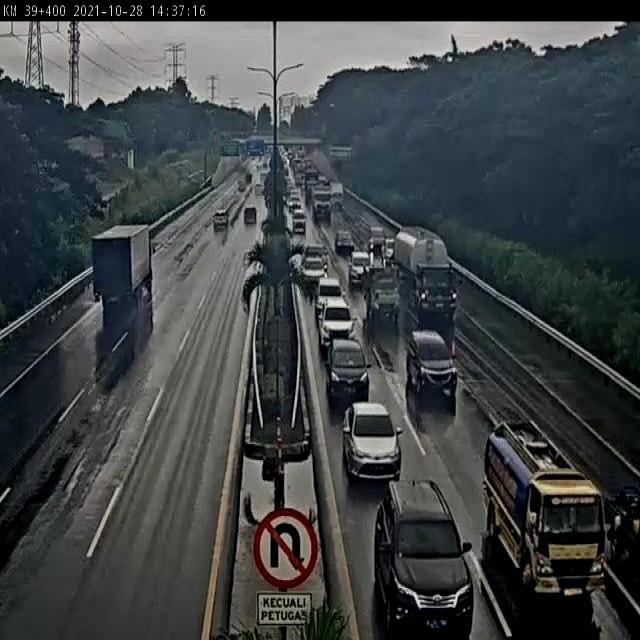Car: (372, 478, 477, 640), (340, 402, 404, 482), (405, 329, 459, 401), (323, 338, 372, 408), (316, 296, 358, 350), (348, 250, 374, 286), (300, 257, 328, 285), (314, 274, 344, 300), (367, 225, 385, 253), (336, 228, 355, 252), (212, 208, 230, 230), (291, 209, 308, 232), (383, 236, 397, 261), (243, 207, 258, 223), (288, 196, 301, 212)
Truck: (484, 416, 623, 602), (395, 222, 463, 321), (91, 222, 159, 302), (606, 487, 640, 592), (364, 269, 402, 324), (310, 184, 334, 222), (303, 169, 321, 204), (330, 179, 345, 208)
